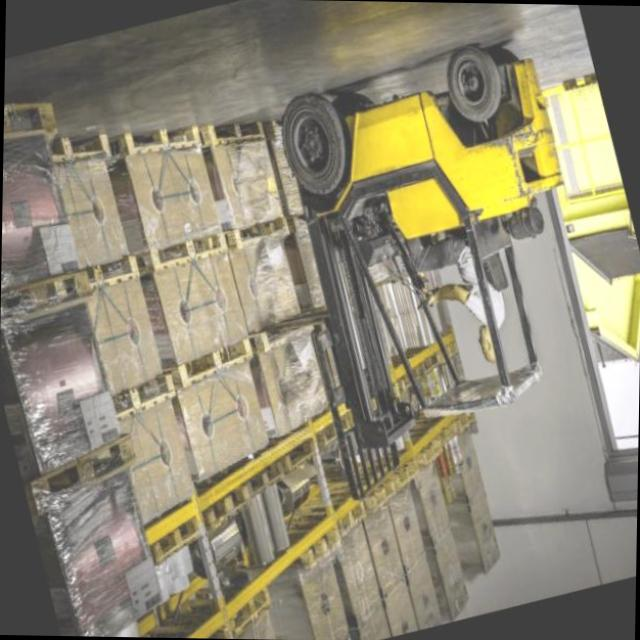driver: (398, 220, 520, 381)
forklift: (237, 24, 640, 514)
